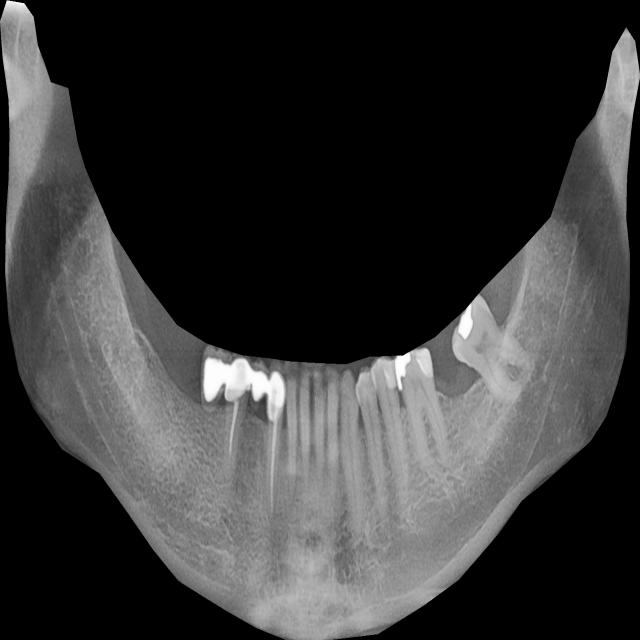mandibula: (0, 0, 640, 640)
